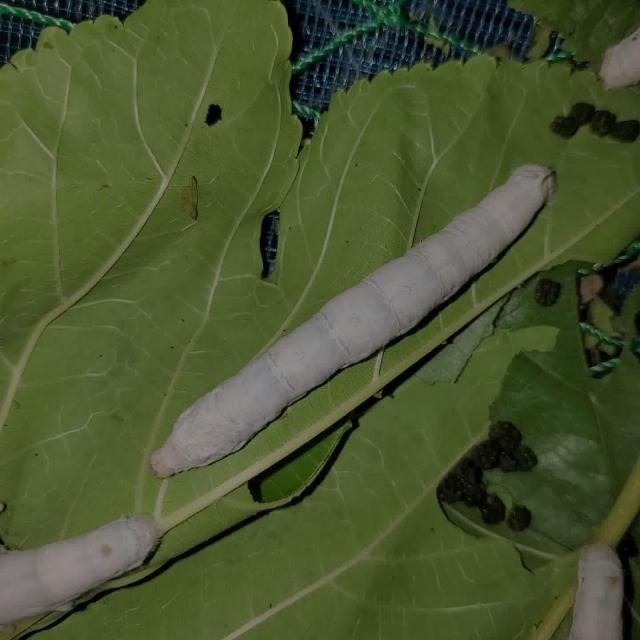Healthy: (102, 134, 602, 492)
